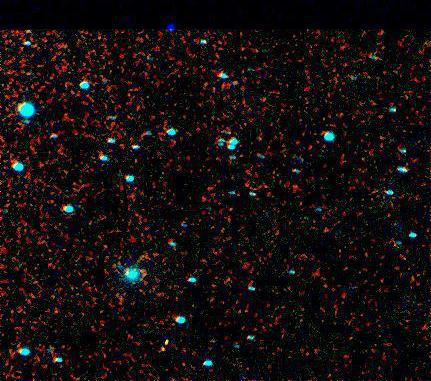star: (153, 334, 183, 364)
